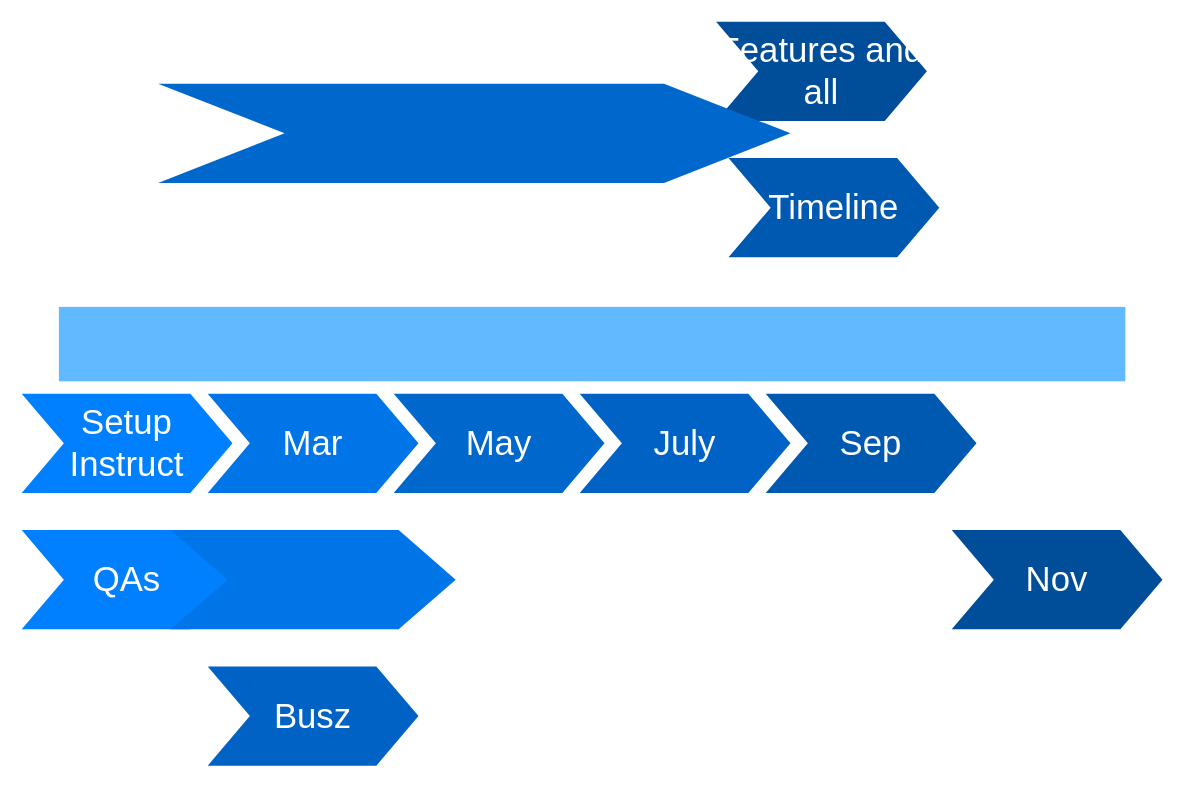
This 1183x786 diagram has some shape labels left out. Each missing label, with the centre of its shape:
"& their tactics used" belongs at [312,579].
"PPT Presentation : for project" belongs at [473,132].
"ToDo Doc & formalities" belongs at [591,343].
